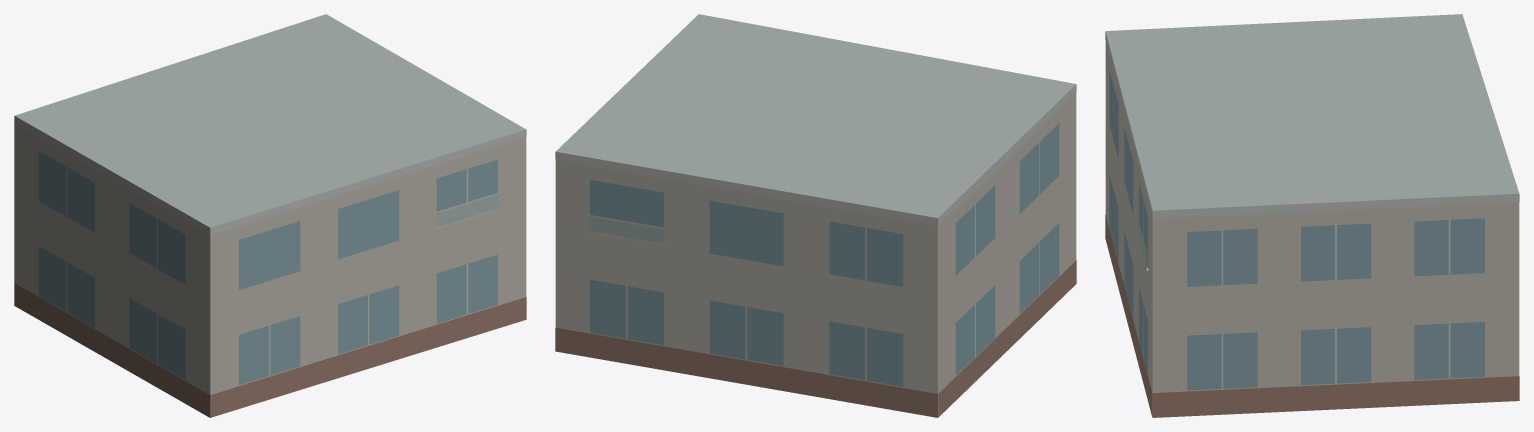
File: survey-upis-33036642.glb
3 views of the same model, side by side, from view 1: azimuth 30°, elevation 25°; view 2: azimuth 150°, elevation 25°; view 3: azimuth 270°, elevation 25° (orthographic). The views are drawn at different scales.
Parts seen in each view (by area): view 1: survey-upis-33036642.tmp; view 2: survey-upis-33036642.tmp; view 3: survey-upis-33036642.tmp.
Part boxes in pixels (left/top/right/bottom): survey-upis-33036642.tmp: left=14, top=14, right=526, bottom=417; survey-upis-33036642.tmp: left=555, top=14, right=1076, bottom=417; survey-upis-33036642.tmp: left=1105, top=14, right=1519, bottom=417.
Bounding box in the file's own units: 12.43 × 6.1 × 11.06.
